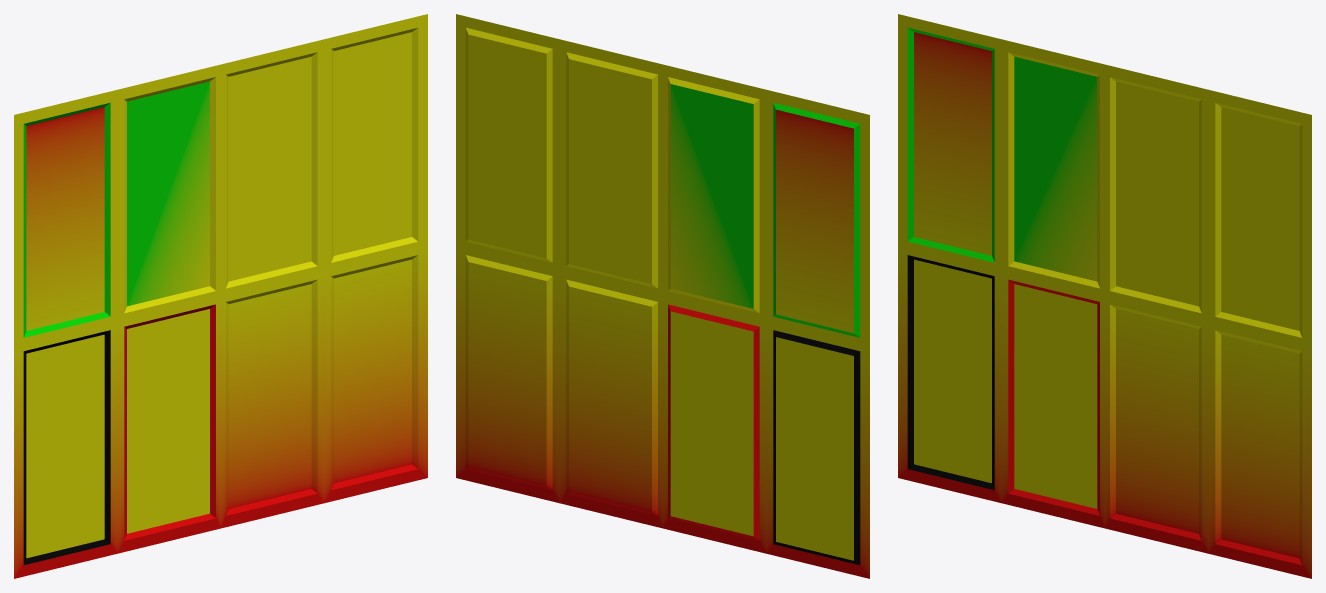
The model's file is Window_Square_v2.fbx.
The picture shows the model from 3 angles, left to right: view 1: azimuth 30°, elevation 25°; view 2: azimuth 150°, elevation 25°; view 3: azimuth 330°, elevation 25°; orthographic projection.
Parts seen in each view (by area): view 1: finestra_v3_lp; view 2: finestra_v3_lp; view 3: finestra_v3_lp.
Part boxes in pixels (box(x1,y1,x2,y2)): finestra_v3_lp: box(14, 14, 427, 578); finestra_v3_lp: box(456, 14, 869, 578); finestra_v3_lp: box(898, 14, 1311, 578).
Size of the model in its own units: 140 by 150 by 1.
